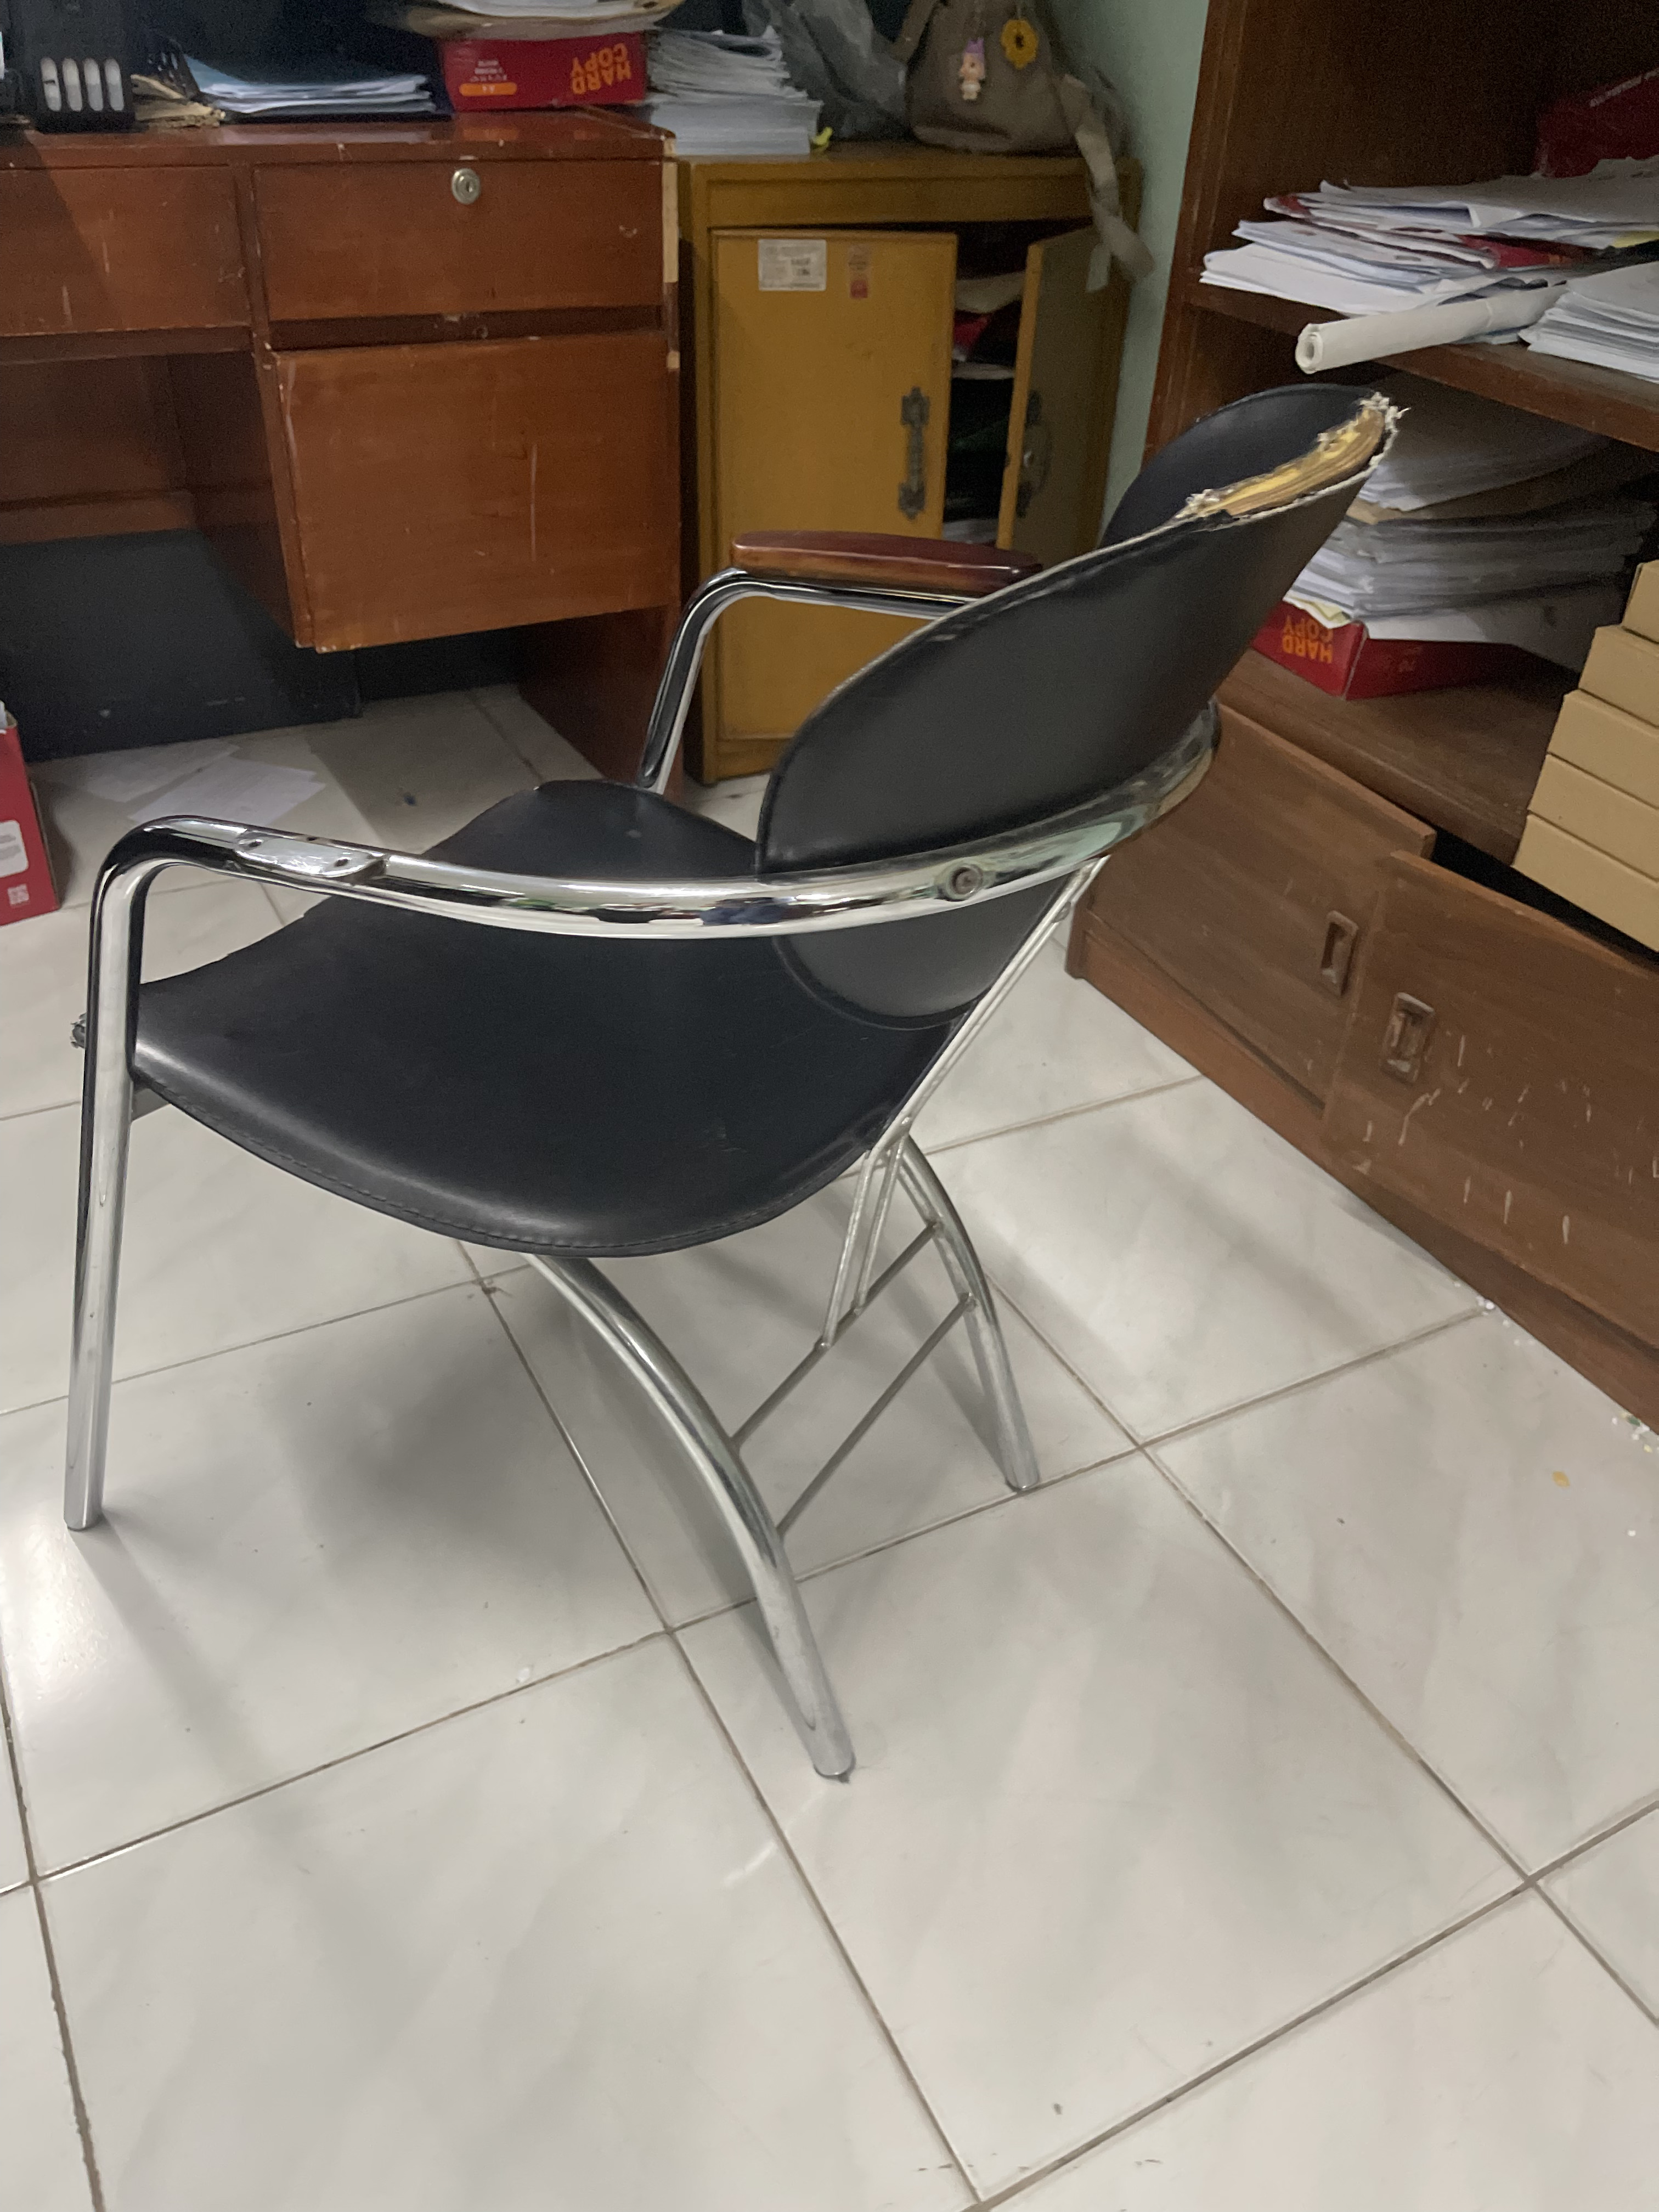chair1: (61, 376, 1405, 1785)
